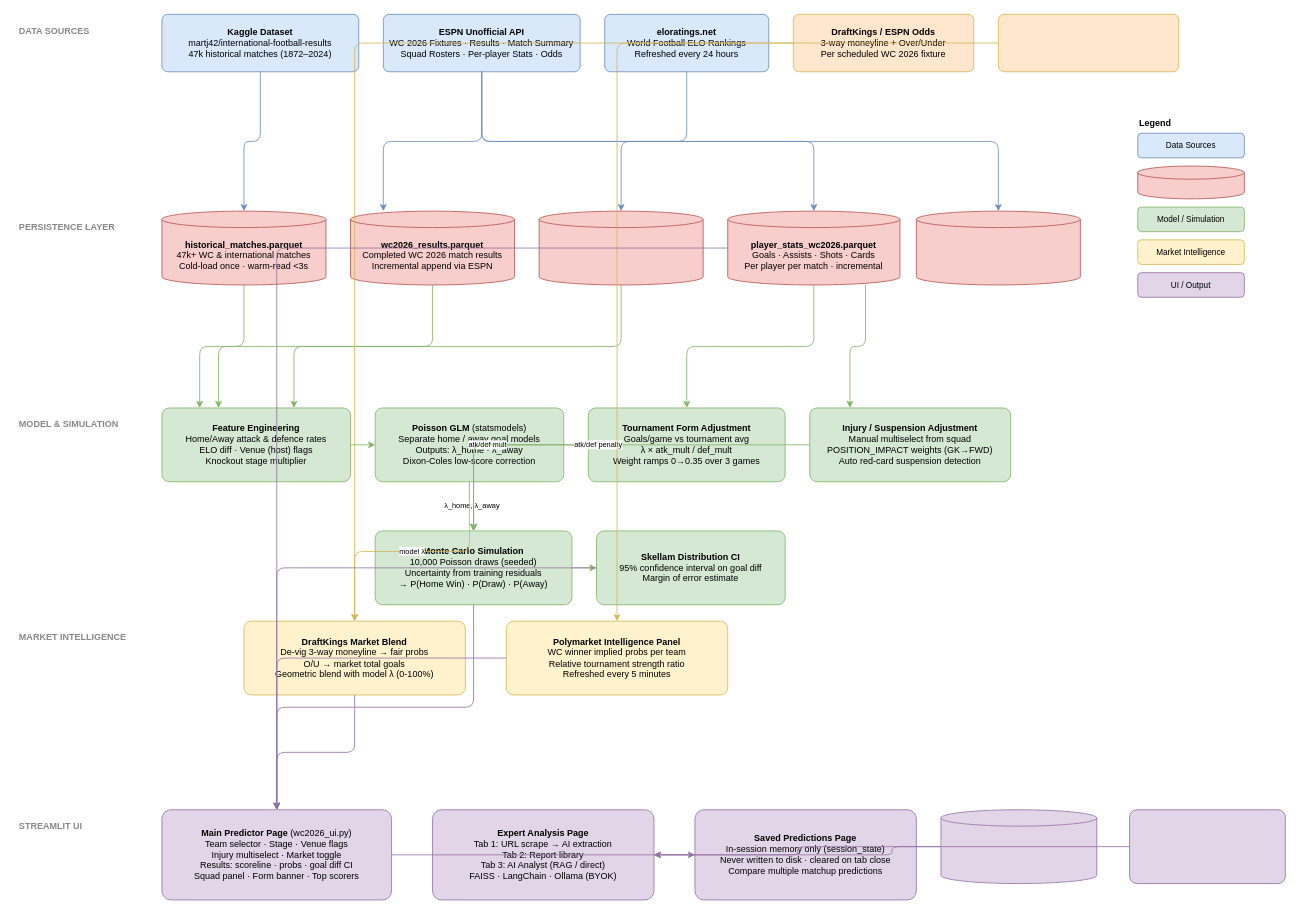
The diagram is 1300 pixels wide and 914 high, and some of its shapes have lost their labels. The shapes that lost their labels are listed below. From the top down, each one's centre as x and y in pixels, then its label:
the point at 1088,43: Polymarket WC 2026 Tournament Winner Markets Crowd-sourced implied probabilities
the point at 1190,182: Parquet / JSON Cache
the point at 620,247: elo_ratings.parquet Team ELO ratings (~82 teams) TTL: 24 hours
the point at 998,247: metadata.json Timestamps · Row counts Cache validity tracking
the point at 1018,846: FAISS Vector Store Embedded match reports LangChain text splitter
the point at 1207,846: Ollama LLM (BYOK) OpenAI-compatible API RAG mode or direct mode
